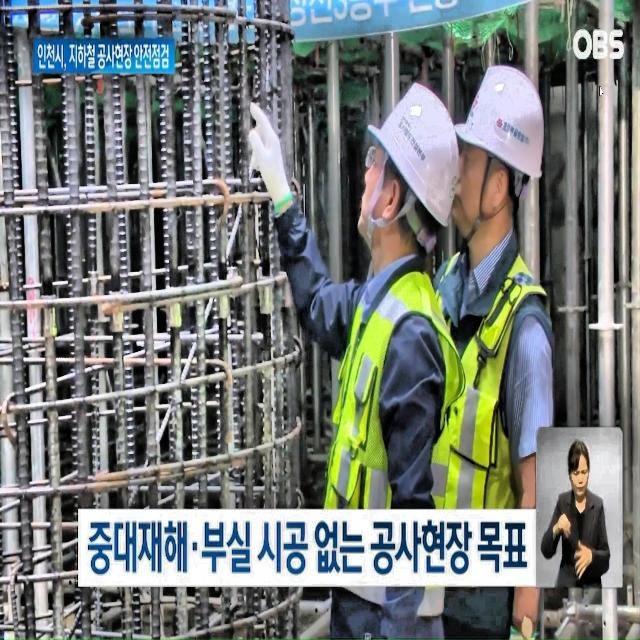safety_helmet: (369, 73, 459, 232), (448, 55, 544, 184)
safety_jacket: (318, 277, 454, 625), (426, 255, 550, 618)
